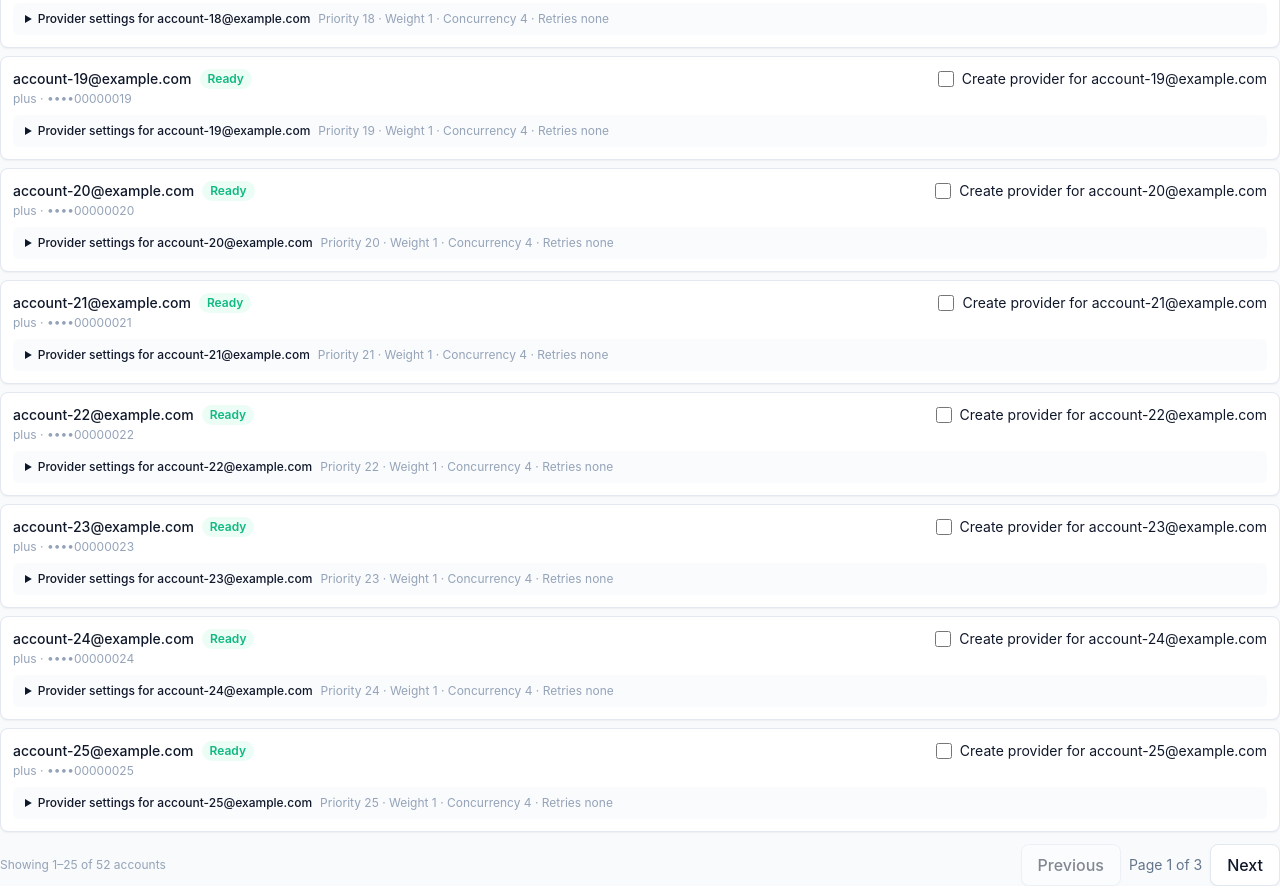
ReviewStep › paginates large previews at 25 accounts per page
(page scrolled)
Check: the text "Showing 1–25 of 52 accounts" is shown, box [0,857,166,873]
Click the button "Next".
click(1245, 865)  # box [1210,844,1279,885]
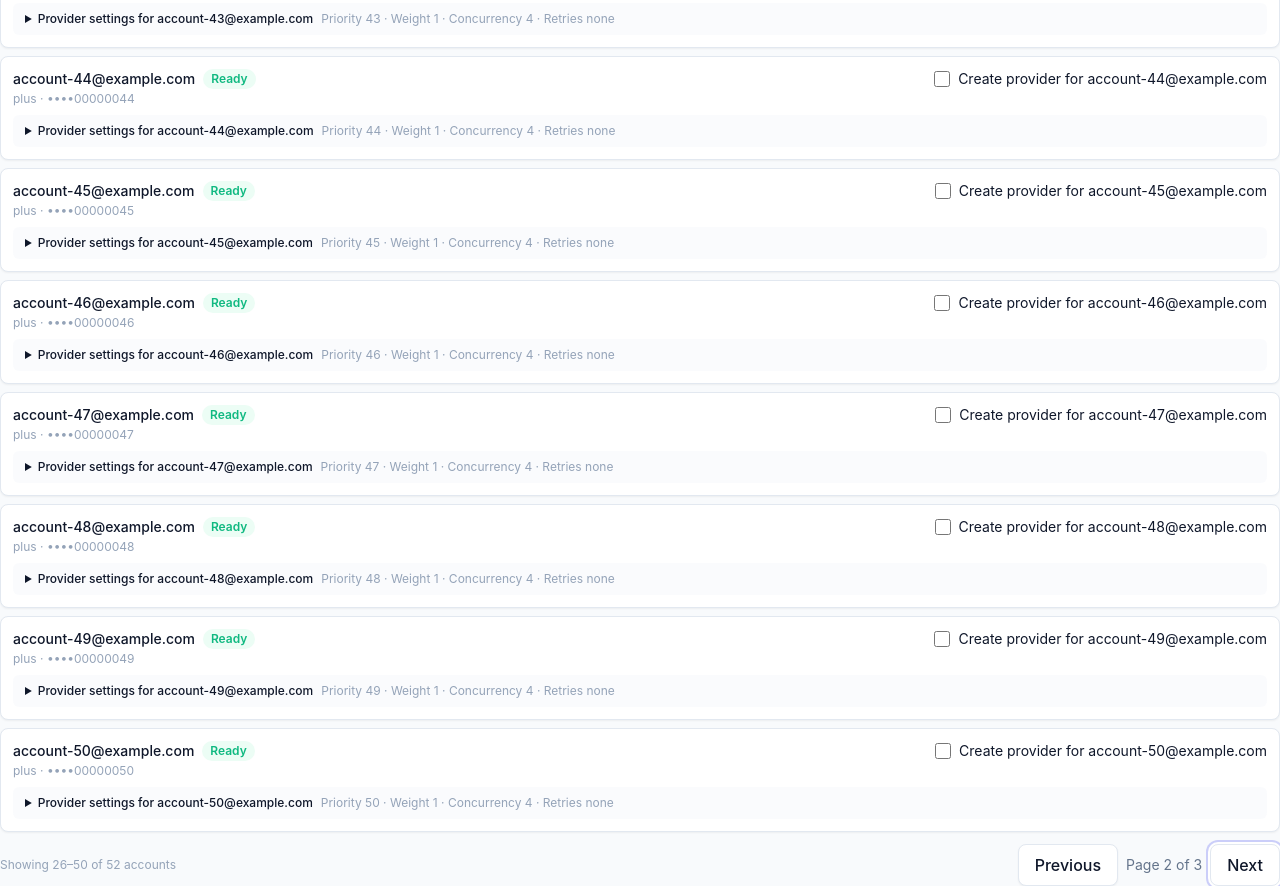
Check: the text "Page 2 of 3" is shown, box [1126,855,1202,875]
Click the button "Next".
click(1245, 865)  # box [1210,844,1279,885]
(page scrolled)
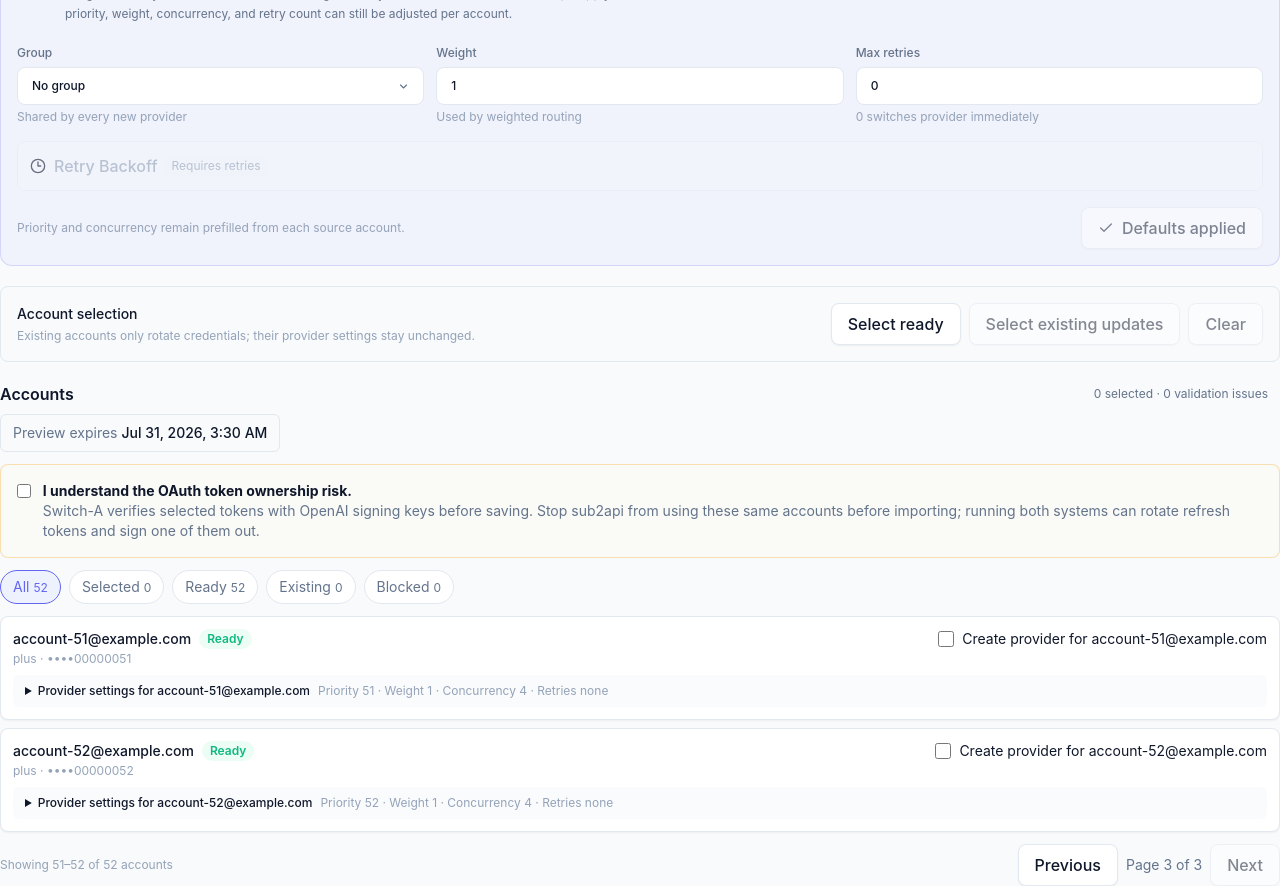
Check: the button "Previous" is enabled, box [1018,844,1118,885]
Check: the text "Page 3 of 3" is shown, box [1126,855,1202,875]
Check: the button "Next" is disabled, box [1210,844,1279,885]
